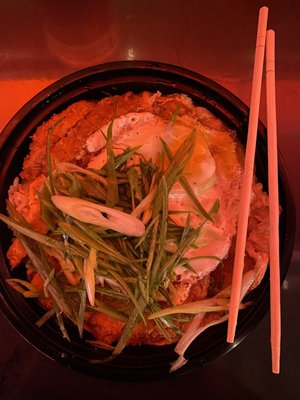pizza: (51, 193, 146, 238)
